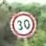limite 30: (9, 9, 37, 38)
